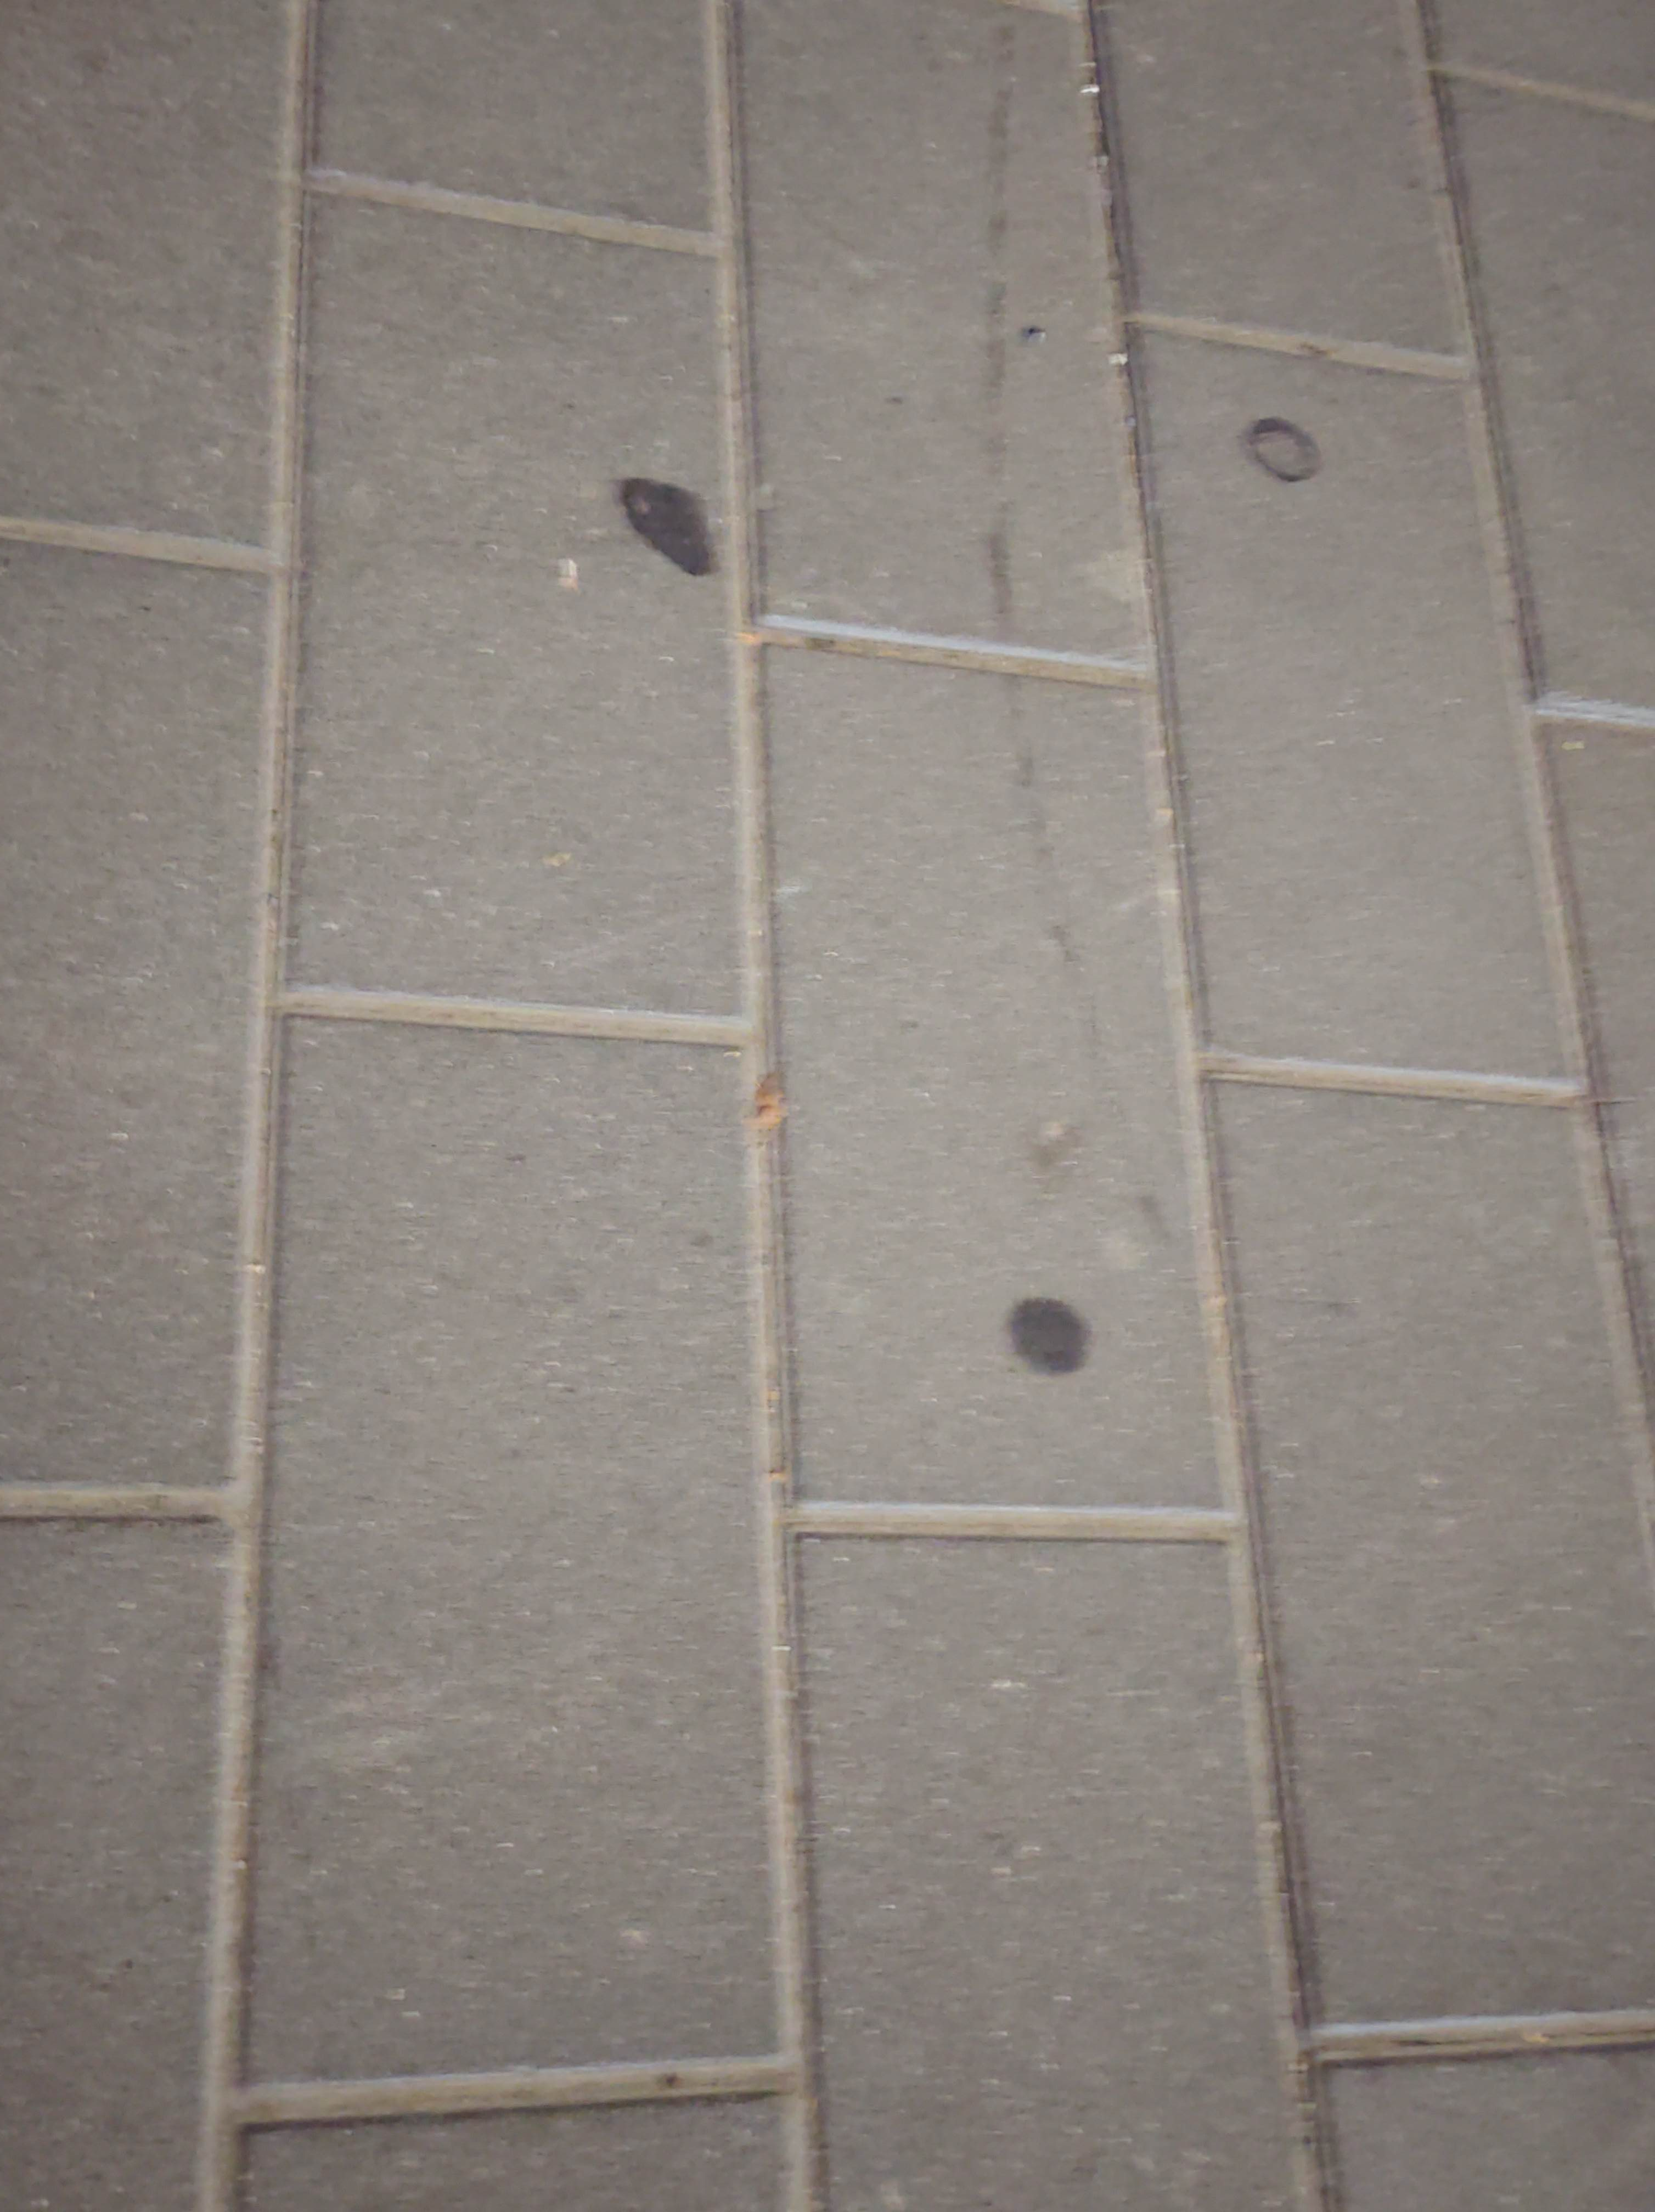grey spot: (621, 478, 716, 579), (1246, 410, 1321, 483), (1008, 1301, 1085, 1371)
